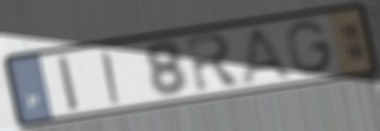8: (142, 39, 191, 100)
A: (239, 25, 297, 85)
G: (283, 19, 336, 77)
I: (54, 53, 83, 114), (98, 48, 122, 107)
R: (183, 31, 246, 95)
